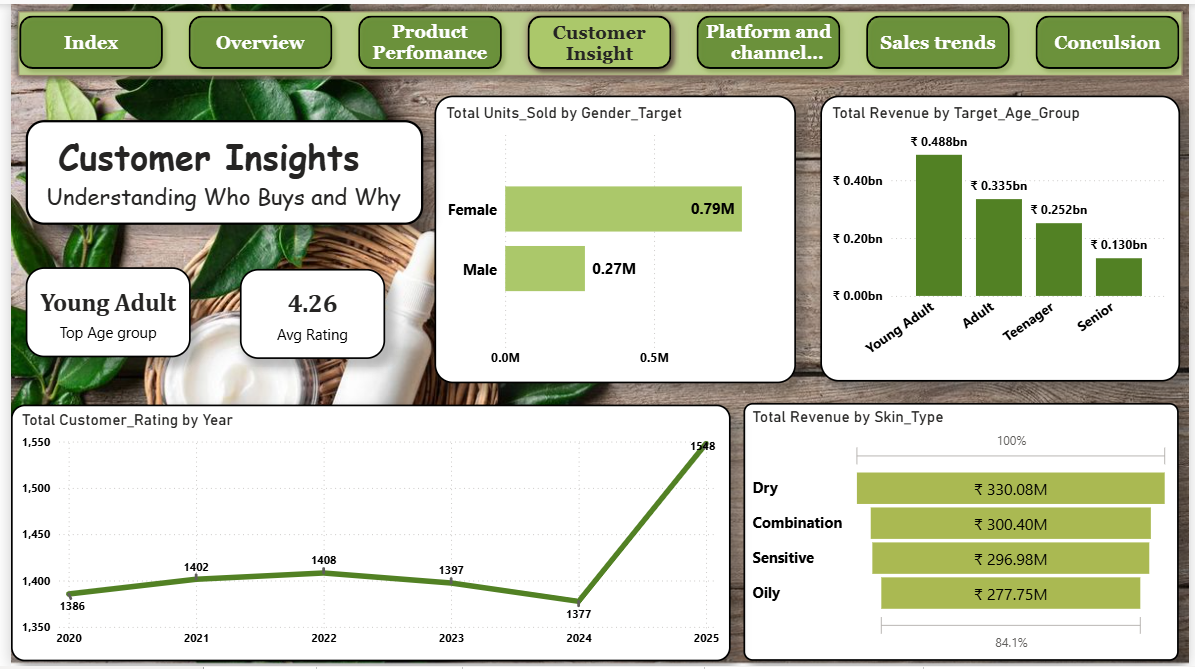

Layout of this report page (visuals, bound fields, positions):
{"tool":"powerbi","page":{"name":"Customer Insight","canvas":[1280,720],"ordinal":3},"visuals":[{"type":"clusteredBarChart","fields":{"Category":["skincare.Gender_Target"],"Y":["Sum(skincare.Units_Sold)"]},"box":[459.9,99.4,392.5,312.6],"z":0},{"type":"funnel","fields":{"Category":["skincare.Skin_Type"],"Y":["Sum(skincare.Revenue_INR)"]},"box":[796.4,432.7,472.7,280],"z":1000},{"type":"columnChart","fields":{"Category":["skincare.Target_Age_Group"],"Y":["Sum(skincare.Revenue_INR)"]},"box":[879.1,99.4,390.7,310.8],"z":2000},{"type":"lineChart","fields":{"Category":["skincare.Year"],"Y":["Sum(skincare.Customer_Rating)"]},"box":[0,435.1,781.4,278.8],"z":3000},{"type":"textbox","box":[16,126.1,431.5,113.7],"z":4000},{"type":"card","fields":{"Values":["Min(skincare.Target_Age_Group)"]},"box":[16,285.9,179.4,97.7],"z":5000},{"type":"card","fields":{"Values":["Avg(skincare.Customer_Rating)"]},"box":[248.6,287.7,158.1,97.7],"z":6000},{"type":"shape","box":[0,0,1280.4,86],"z":7000},{"type":"pageNavigator","box":[0,3.6,1280.4,76.4],"z":8000}]}

Visuals, with their boxes in screenshot pixels (x1, y1, x2, y2), scaled from the page's 1280x720 canvas onto the 1195x669 screenshot:
clusteredBarChart - skincare.Gender_Target x Sum(skincare.Units_Sold): 429/92/796/383
funnel - skincare.Skin_Type x Sum(skincare.Revenue_INR): 744/402/1185/662
columnChart - skincare.Target_Age_Group x Sum(skincare.Revenue_INR): 821/92/1185/381
lineChart - skincare.Year x Sum(skincare.Customer_Rating): 0/404/730/663
textbox: 15/117/418/223
card - Min(skincare.Target_Age_Group): 15/266/182/356
card - Avg(skincare.Customer_Rating): 232/267/380/358
shape: 0/0/1194/80
pageNavigator: 0/3/1194/74
